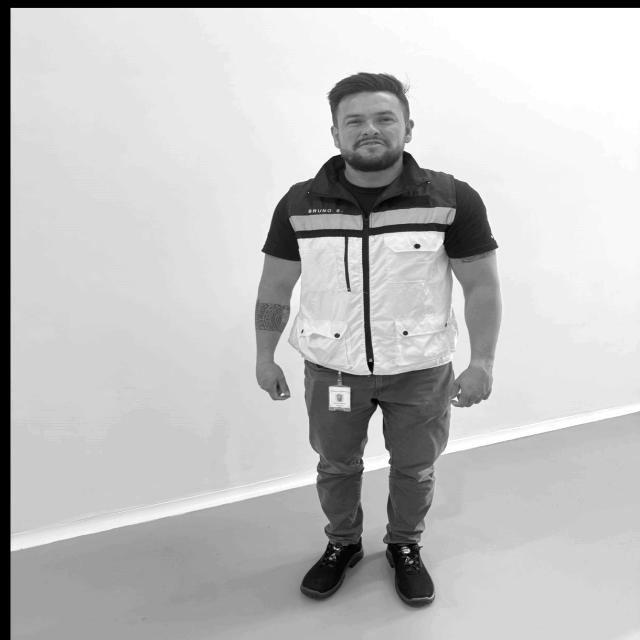Boots: (377, 540, 448, 612), (294, 538, 367, 606)
Vest: (290, 179, 460, 374)
